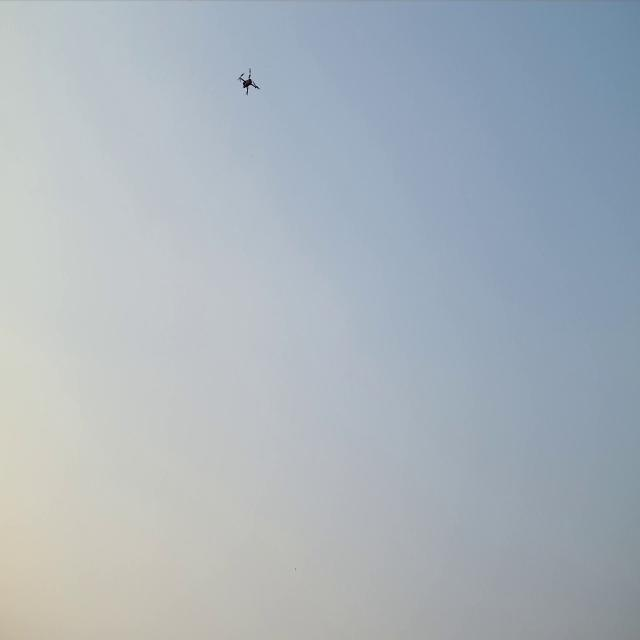UAV: (237, 61, 262, 100)
